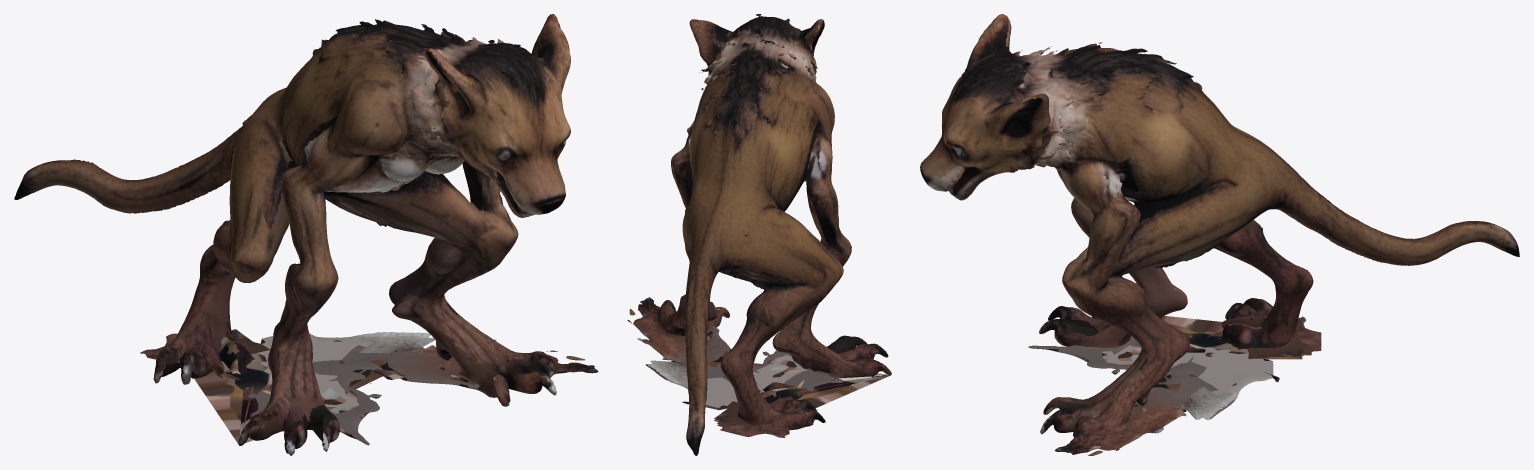
Rendered from forest-stalker.glb.
The picture shows the model from 3 angles, left to right: view 1: azimuth 30°, elevation 25°; view 2: azimuth 150°, elevation 25°; view 3: azimuth 270°, elevation 25°; orthographic projection. The views are drawn at different scales.
Parts seen in each view (by area): view 1: tmpvs2q6bcp.ply; view 2: tmpvs2q6bcp.ply; view 3: tmpvs2q6bcp.ply.
Boxes of the visible parts, bbox=[...] form: tmpvs2q6bcp.ply: bbox=[14, 14, 598, 455]; tmpvs2q6bcp.ply: bbox=[627, 14, 891, 455]; tmpvs2q6bcp.ply: bbox=[920, 14, 1519, 455].
Size of the model in its own units: 1.16 by 1.3 by 1.96.
Materials: 1 (1 with a texture image).
